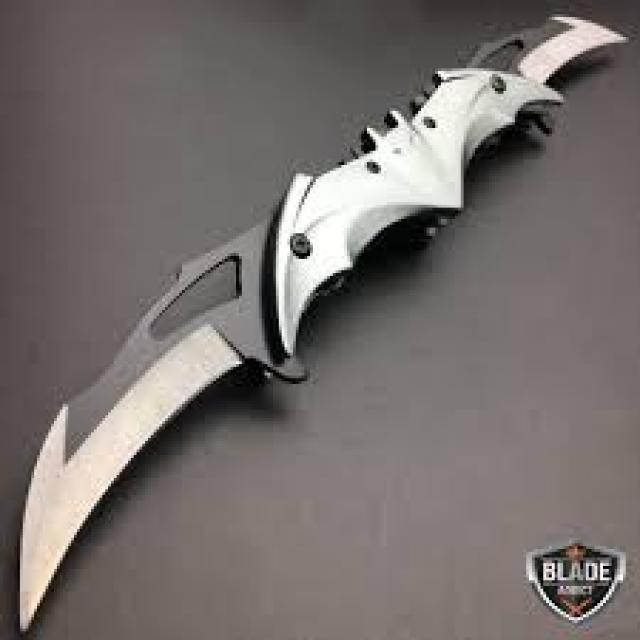knives: (8, 6, 634, 637)
